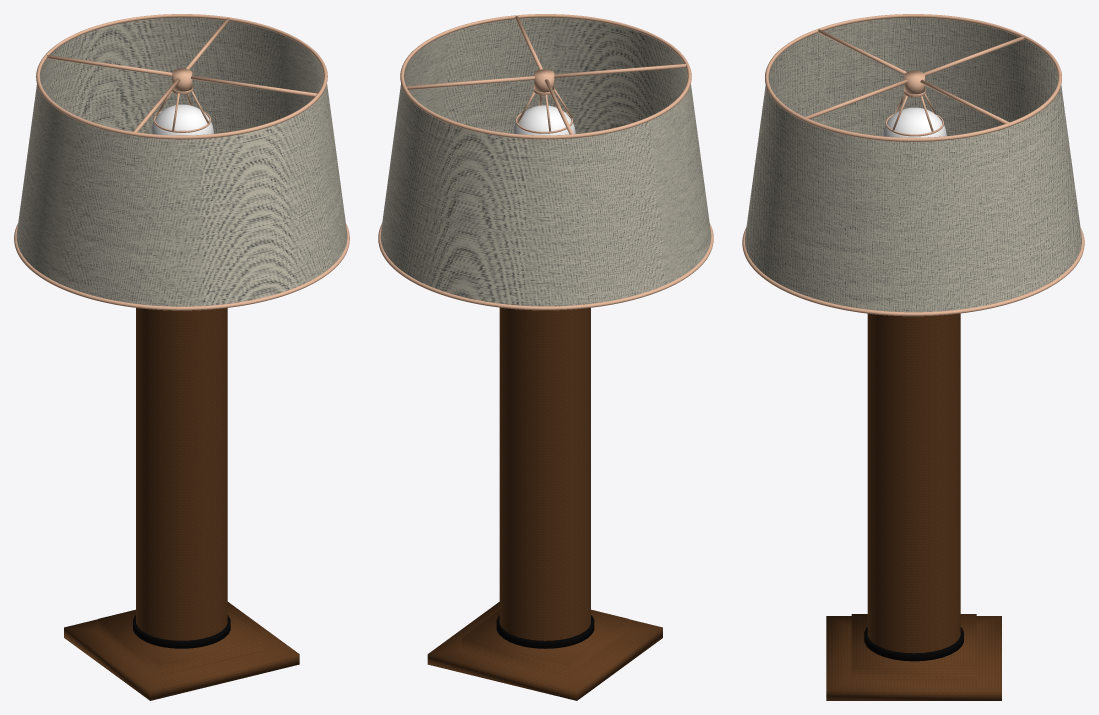
Rendered from Lamp.obj.
The picture shows the model from 3 angles, left to right: view 1: azimuth 30°, elevation 25°; view 2: azimuth 150°, elevation 25°; view 3: azimuth 270°, elevation 25°; orthographic projection.
Visible parts, largest first — view 1: Lamp_003; view 2: Lamp_003; view 3: Lamp_003.
Boxes of the visible parts, x1,y1,x2,y2 form: Lamp_003: [14, 14, 349, 700]; Lamp_003: [378, 14, 713, 700]; Lamp_003: [742, 14, 1084, 700].
Bounding box in the file's own units: 0.3774 × 0.7167 × 0.3774.
5 materials, 4 textured.
